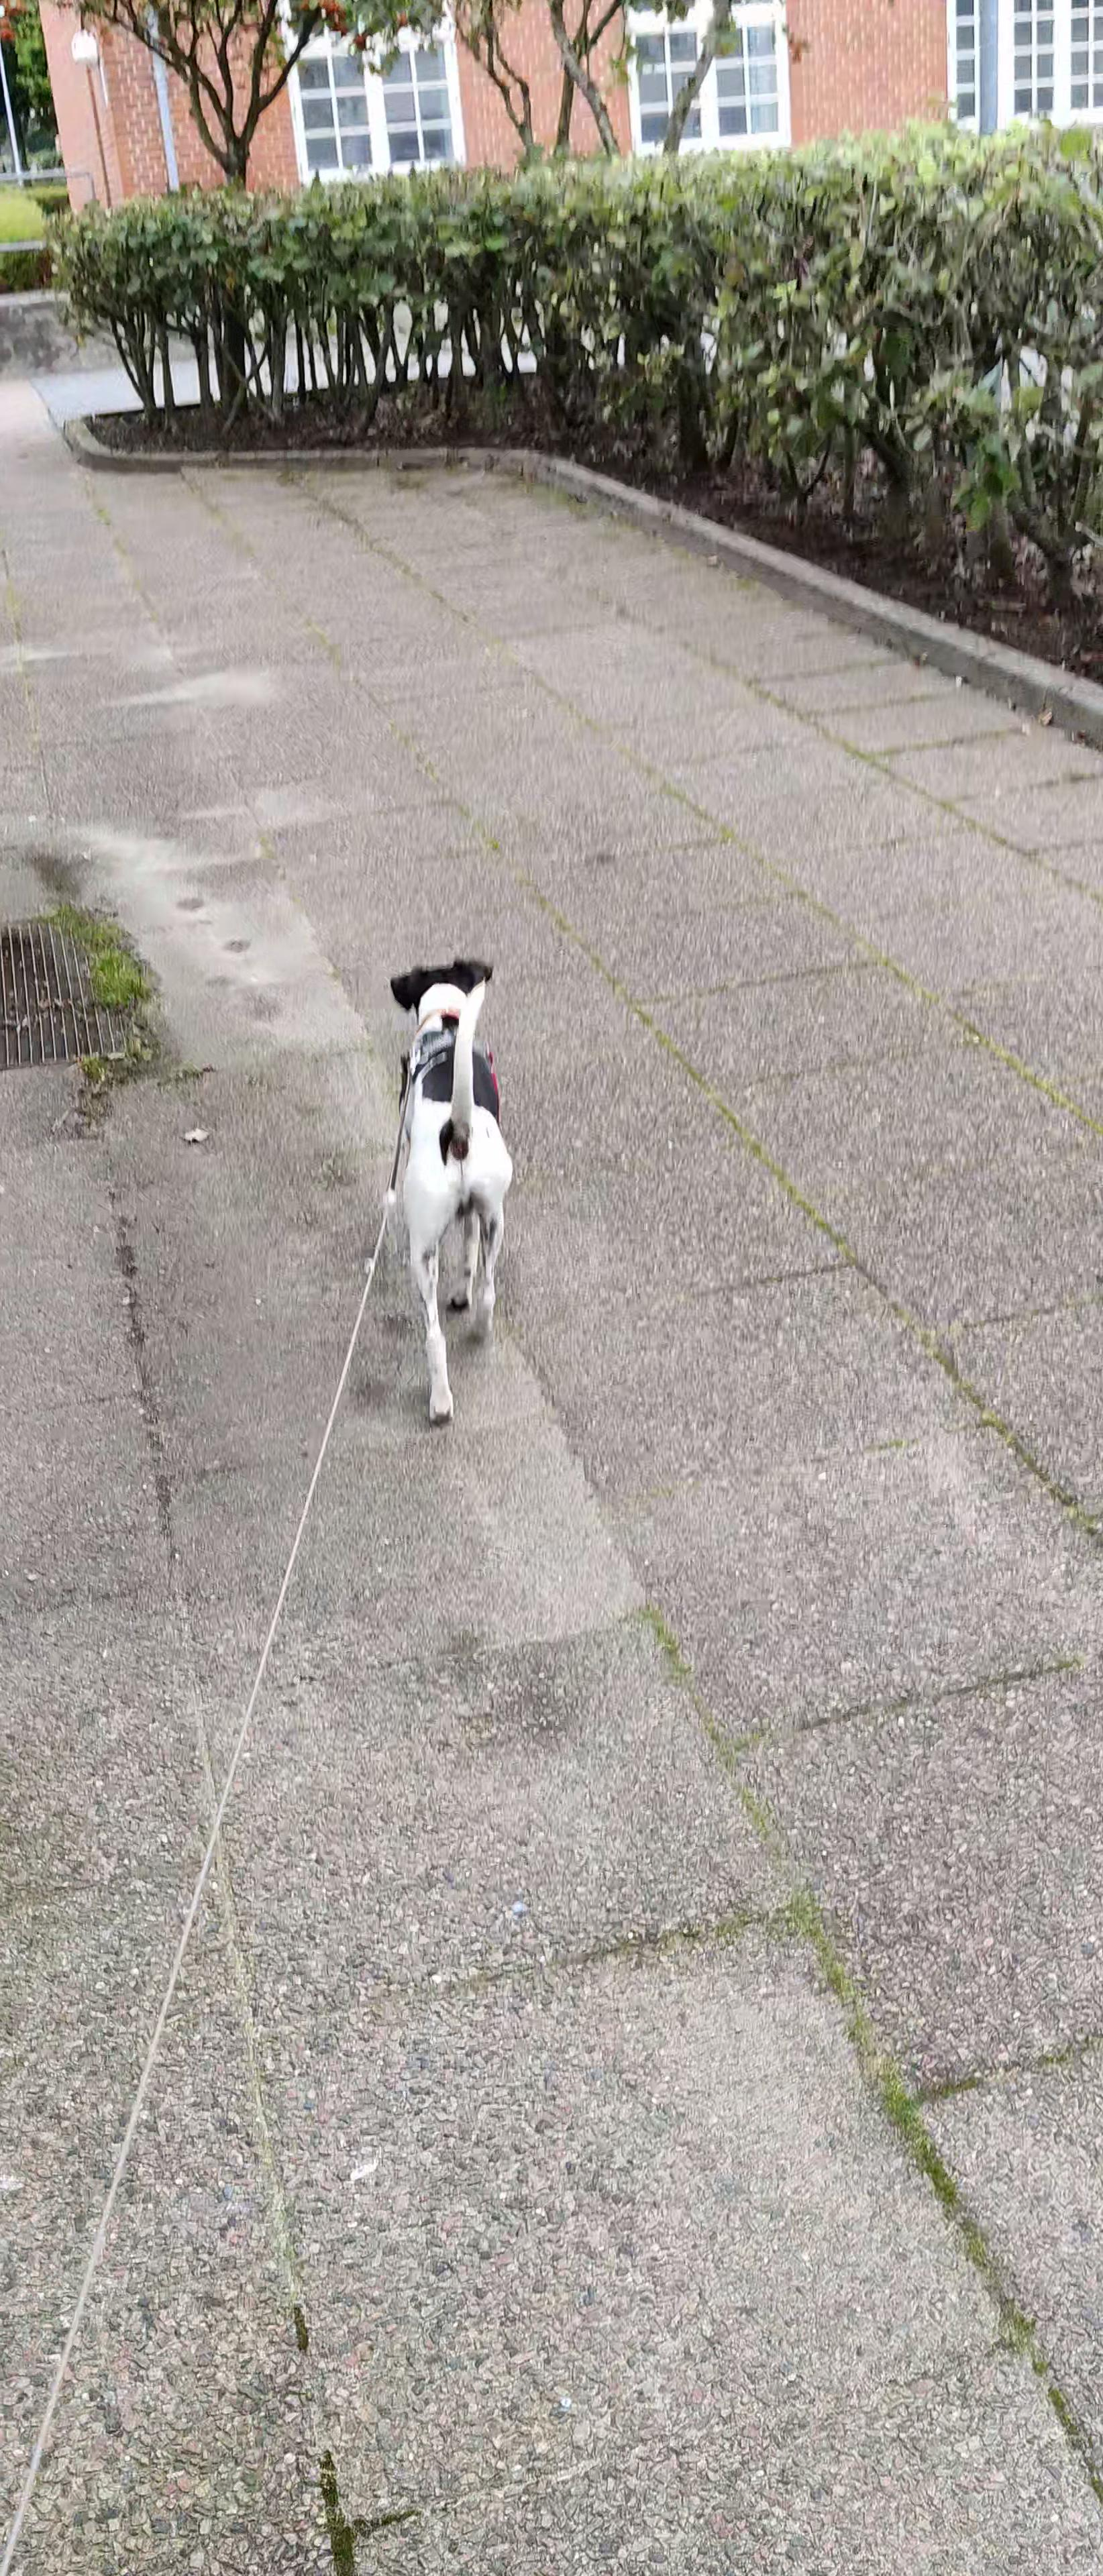Dog: (378, 948, 519, 1434)
